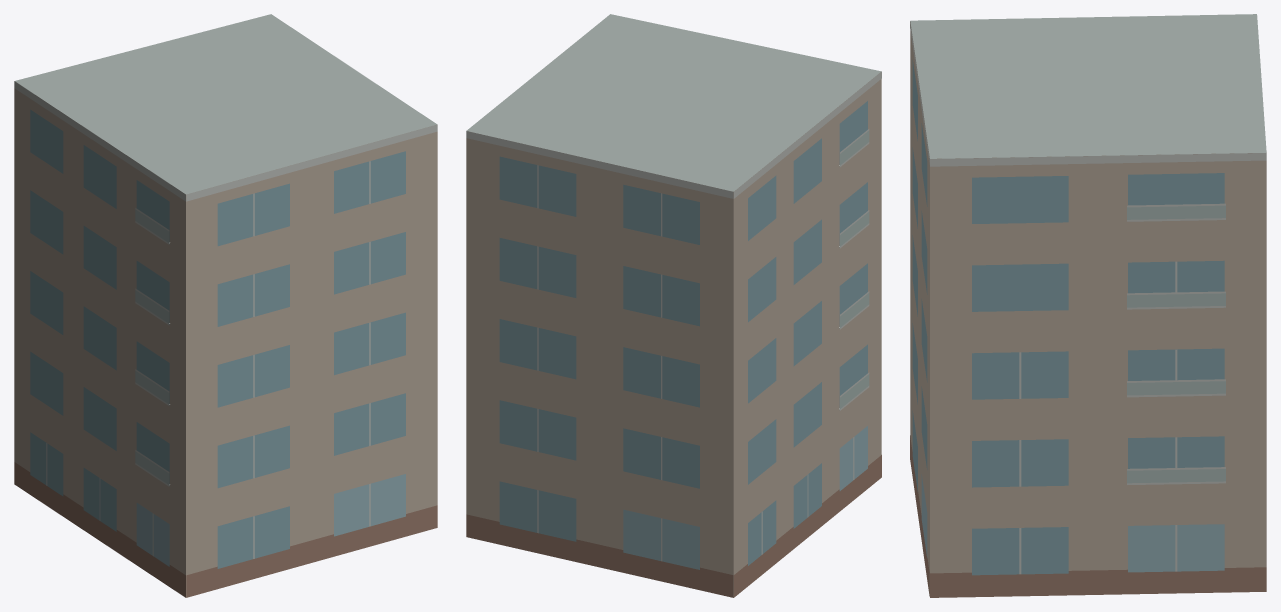
File: survey-upis-32959004.glb
3 renders of one model, left to right at view 1: azimuth 30°, elevation 25°; view 2: azimuth 150°, elevation 25°; view 3: azimuth 270°, elevation 25°, orthographic. The views are drawn at different scales.
Parts seen in each view (by area): view 1: survey-upis-32959004.tmp; view 2: survey-upis-32959004.tmp; view 3: survey-upis-32959004.tmp.
Boxes of the visible parts, x1=… form: survey-upis-32959004.tmp: x1=14, y1=14, x2=437, y2=597; survey-upis-32959004.tmp: x1=466, y1=14, x2=881, y2=597; survey-upis-32959004.tmp: x1=910, y1=14, x2=1266, y2=597.
Size of the model in its own units: 9.78 by 13.8 by 10.17.
